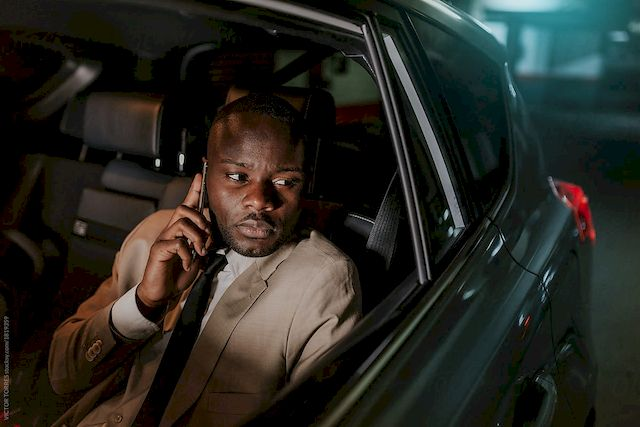phone: (177, 161, 221, 260)
talk: (147, 146, 309, 299)
